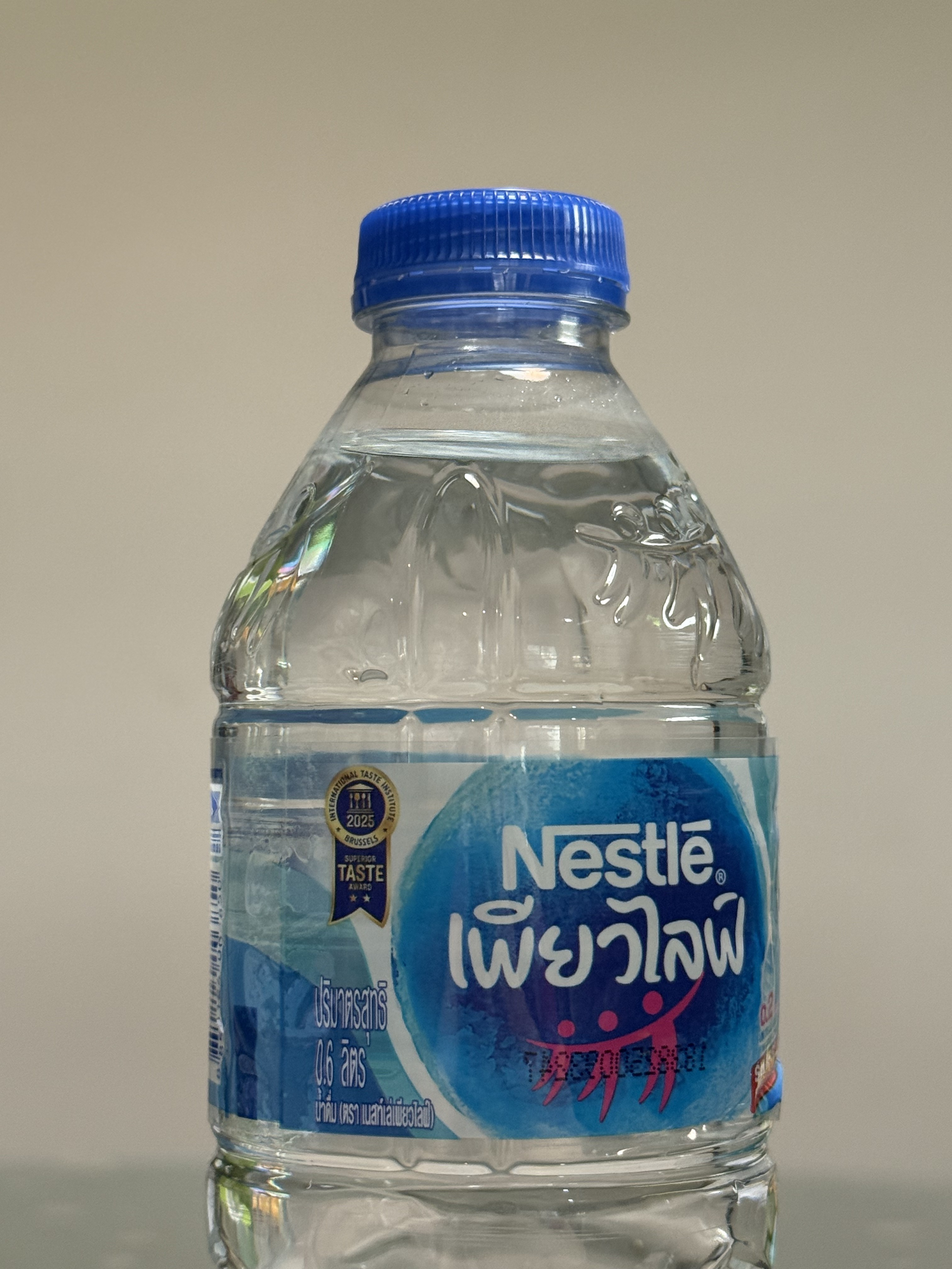closed_cap: (347, 183, 634, 329)
